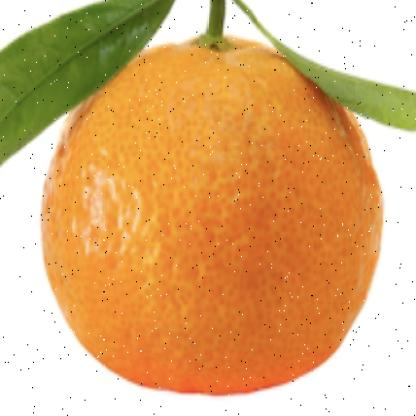fresh: (41, 32, 385, 396)
